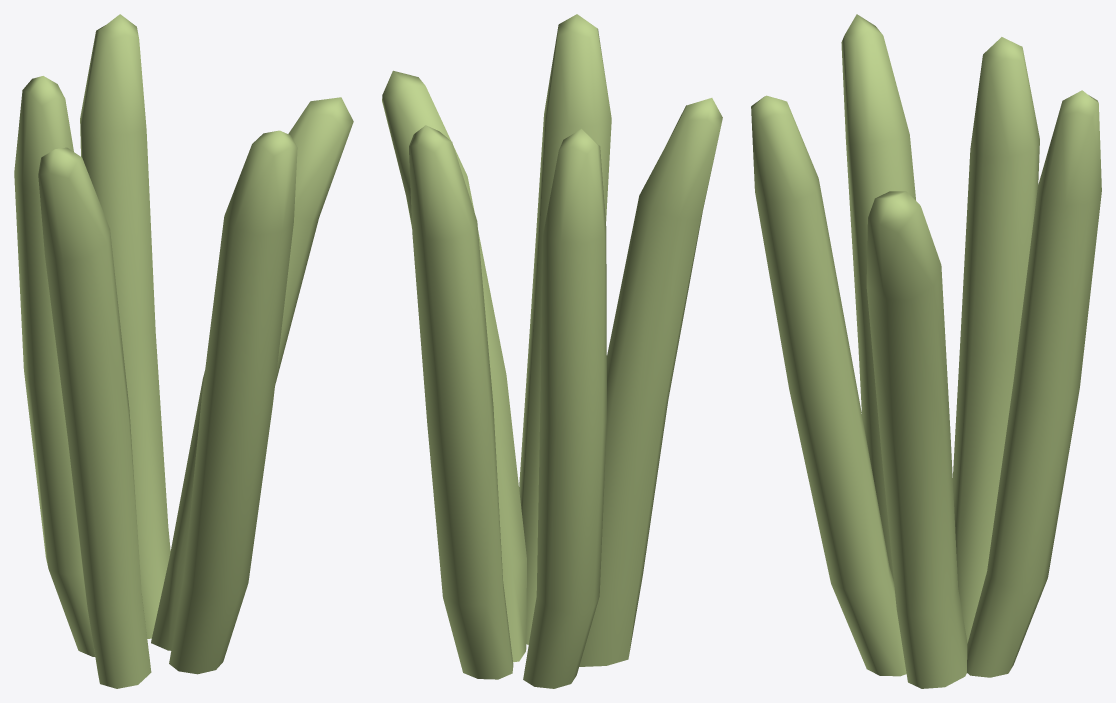
The model's file is Grass_10.fbx.
3 renders of one model, left to right at view 1: azimuth 30°, elevation 25°; view 2: azimuth 150°, elevation 25°; view 3: azimuth 270°, elevation 25°, orthographic.
Visible parts, largest first — view 1: polySurface825; view 2: polySurface825; view 3: polySurface825.
Part boxes in pixels (x1,y1,x2,y2): polySurface825: (14, 14, 353, 688); polySurface825: (382, 14, 722, 688); polySurface825: (751, 14, 1101, 688).
Bounding box in the file's own units: 32.29 × 54.98 × 29.93.
